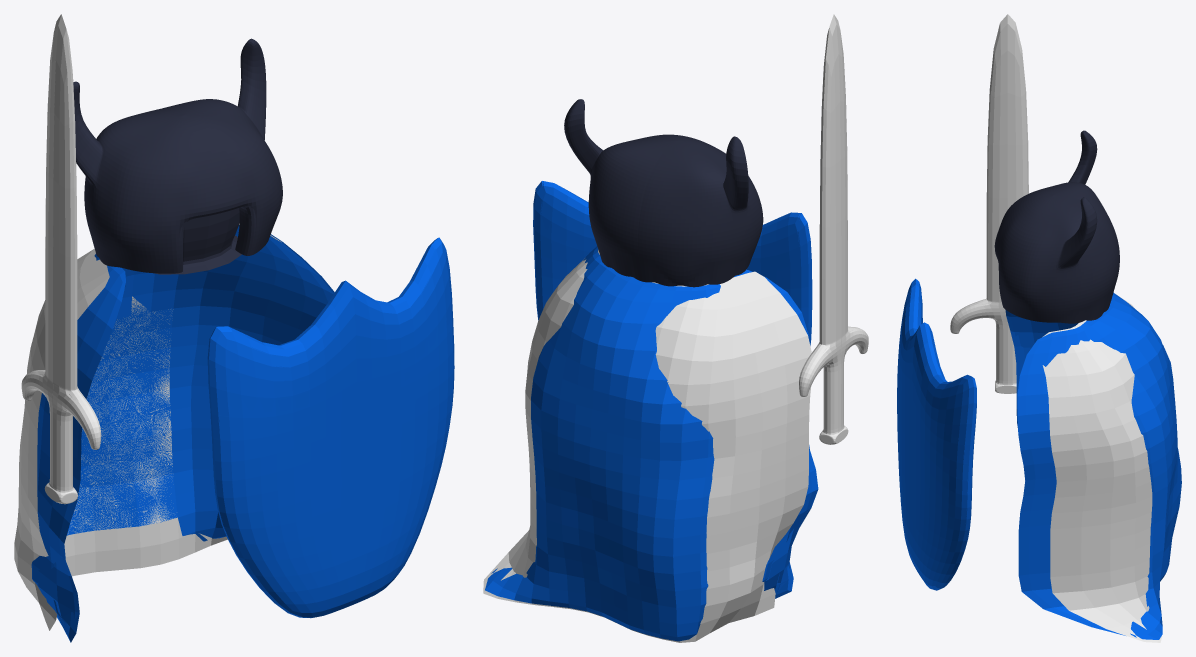
The picture shows the model from 3 angles, left to right: view 1: azimuth 30°, elevation 25°; view 2: azimuth 150°, elevation 25°; view 3: azimuth 270°, elevation 25°; orthographic projection. The views are drawn at different scales.
Visible parts, largest first — view 1: Carry, cloak, body, cloak.001, knight.001, knight; view 2: cloak, cloak.001, body, knight.001, Carry, knight; view 3: cloak.001, cloak, Carry, body, knight.001, knight.
Part boxes in pixels (x1,y1,x2,y2): Carry: (207, 237, 454, 618); cloak: (31, 225, 334, 642); body: (73, 38, 282, 274); cloak.001: (14, 223, 281, 630); knight.001: (21, 14, 101, 480); knight: (22, 370, 100, 504); cloak: (485, 246, 818, 641); cloak.001: (483, 250, 811, 642); body: (564, 99, 763, 287); knight.001: (799, 14, 868, 423); Carry: (533, 181, 812, 345); knight: (799, 326, 867, 444); cloak.001: (1042, 297, 1161, 642); cloak: (1005, 292, 1181, 639); Carry: (897, 278, 976, 590); body: (994, 130, 1119, 323); knight.001: (950, 14, 1028, 375); knight: (950, 298, 1016, 393).
Bounding box in the file's own units: 124 × 210 × 105.
